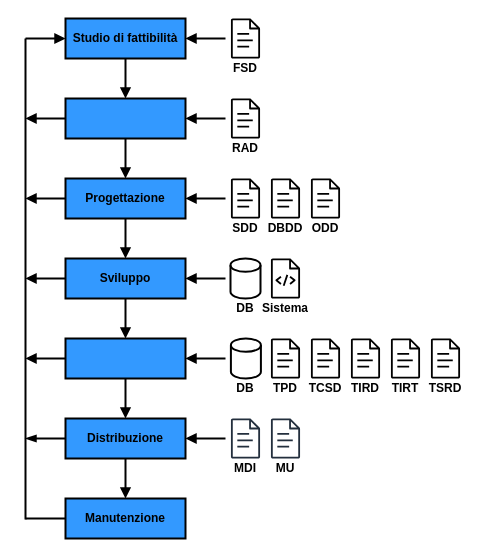
This 482x556 diagram has some shape labels left out. Here are the shapes that lost their labels. From the top down, the centre of each, then its label:
At (125,118): "Analisi dei requisiti".
At (125,358): "Testing".
